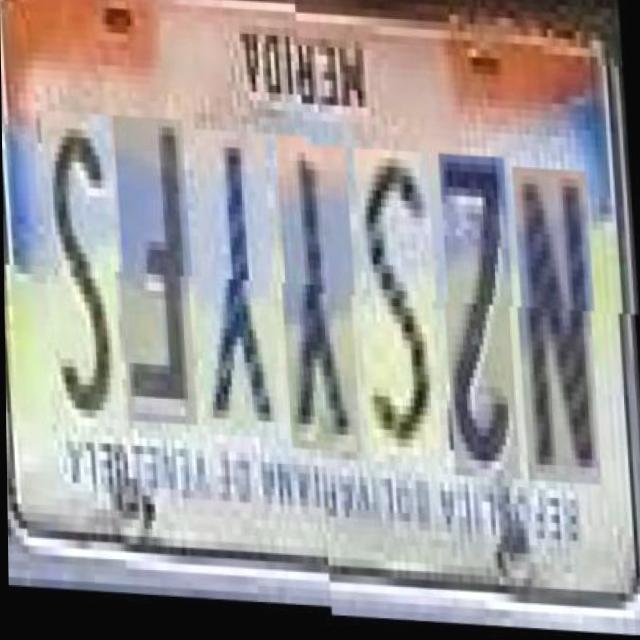2: (438, 147, 521, 474)
f: (114, 123, 199, 433)
n: (512, 160, 602, 479)
s: (353, 143, 443, 462), (42, 119, 127, 438)
y: (190, 135, 280, 446), (276, 139, 362, 458)
